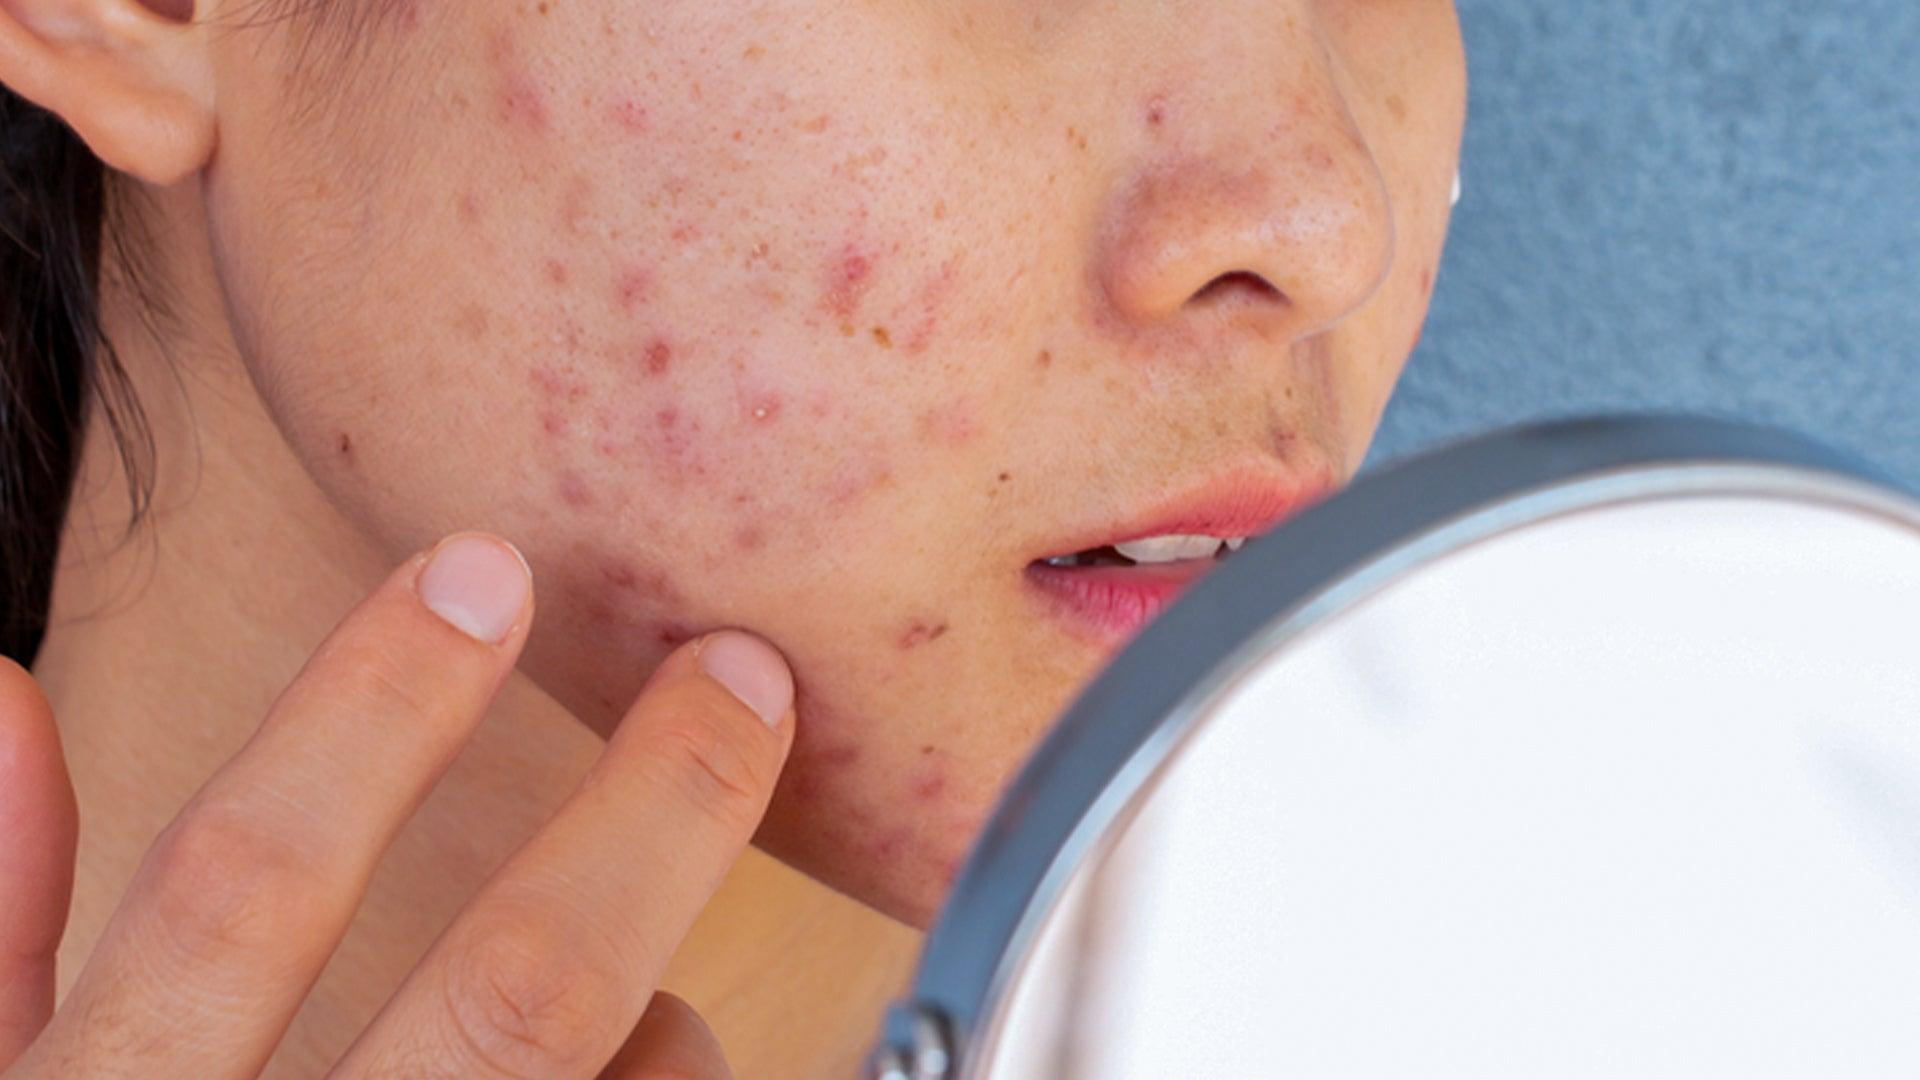Acne: (381, 444, 1054, 928), (371, 0, 1093, 435), (1120, 8, 1429, 290)
